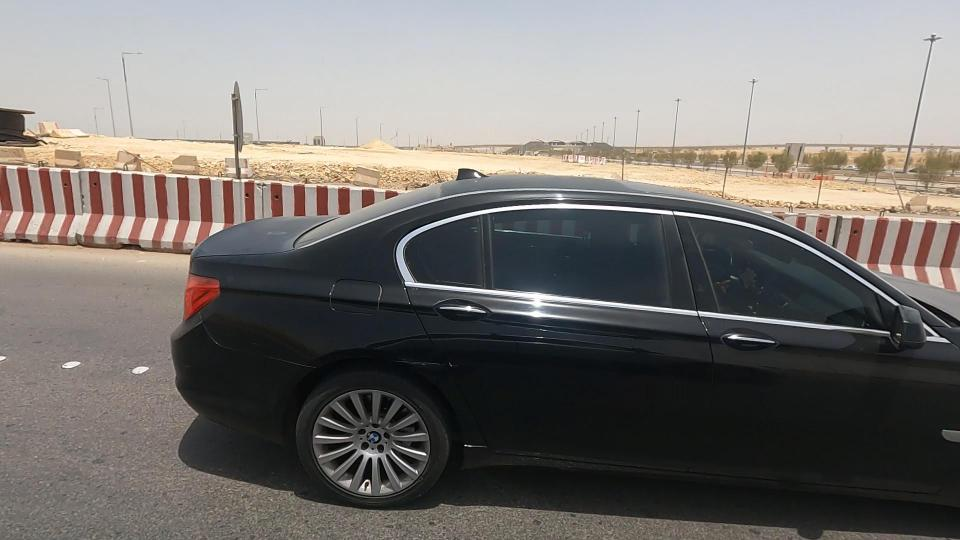CONSTRUCTION_ROAD: (0, 81, 368, 308), (694, 153, 960, 336)
